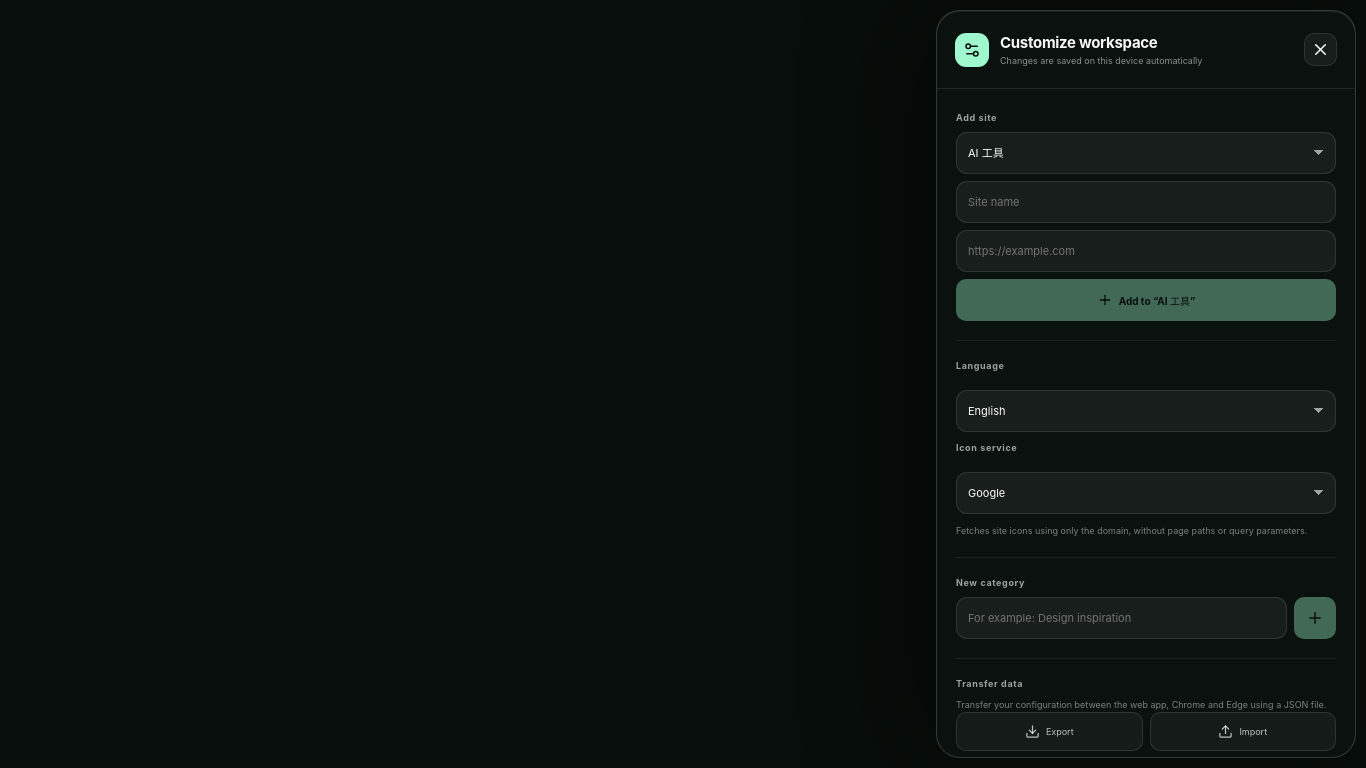
Test: preferences and icons › shows a translated export error and clears it after a successful retry
The width and height of the screenshot is (1366, 768).
What coordinates should you click on to do the following:
click the button "Export"
I would click on:
 (1049, 731)
Its box is [956,712,1142,751].
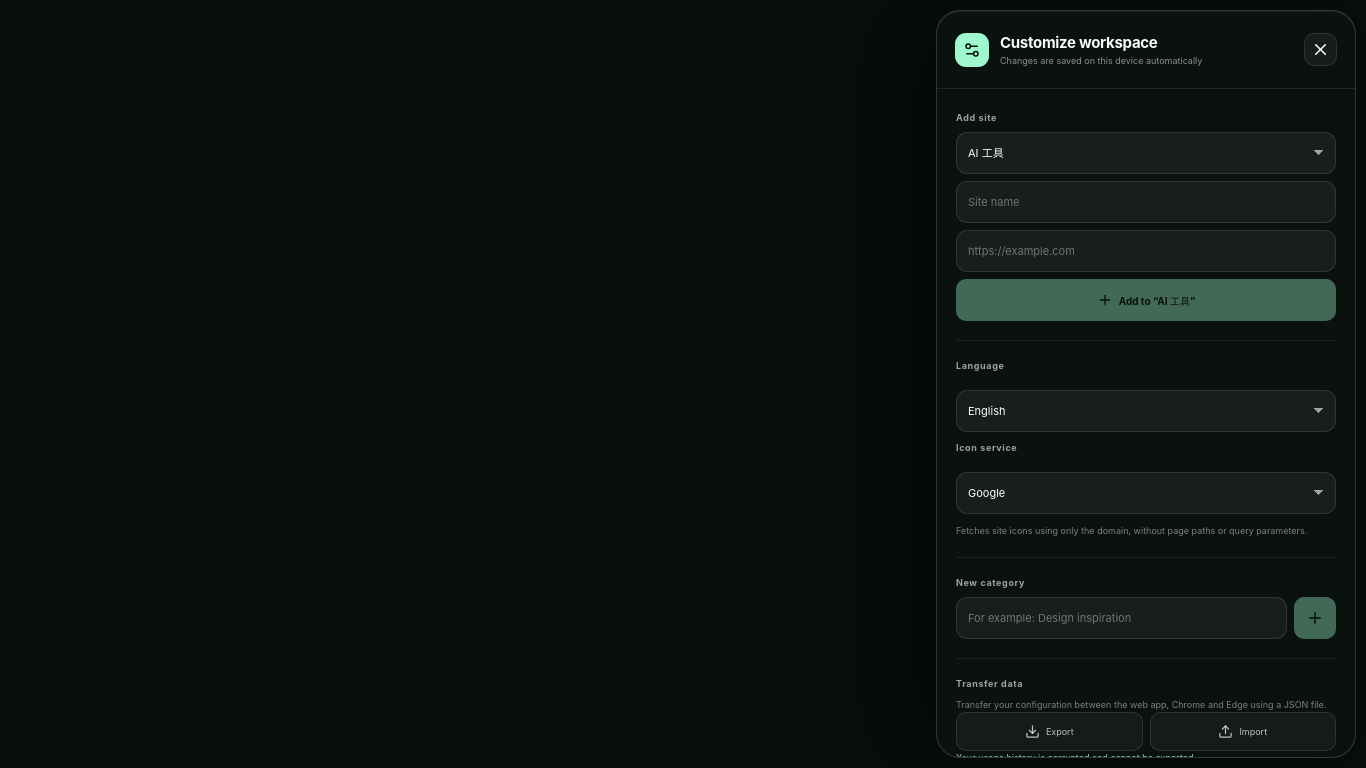
What coordinates should you click on to do the following:
click the button "Export"
I would click on:
 (1049, 731)
Its box is [956,712,1142,751].
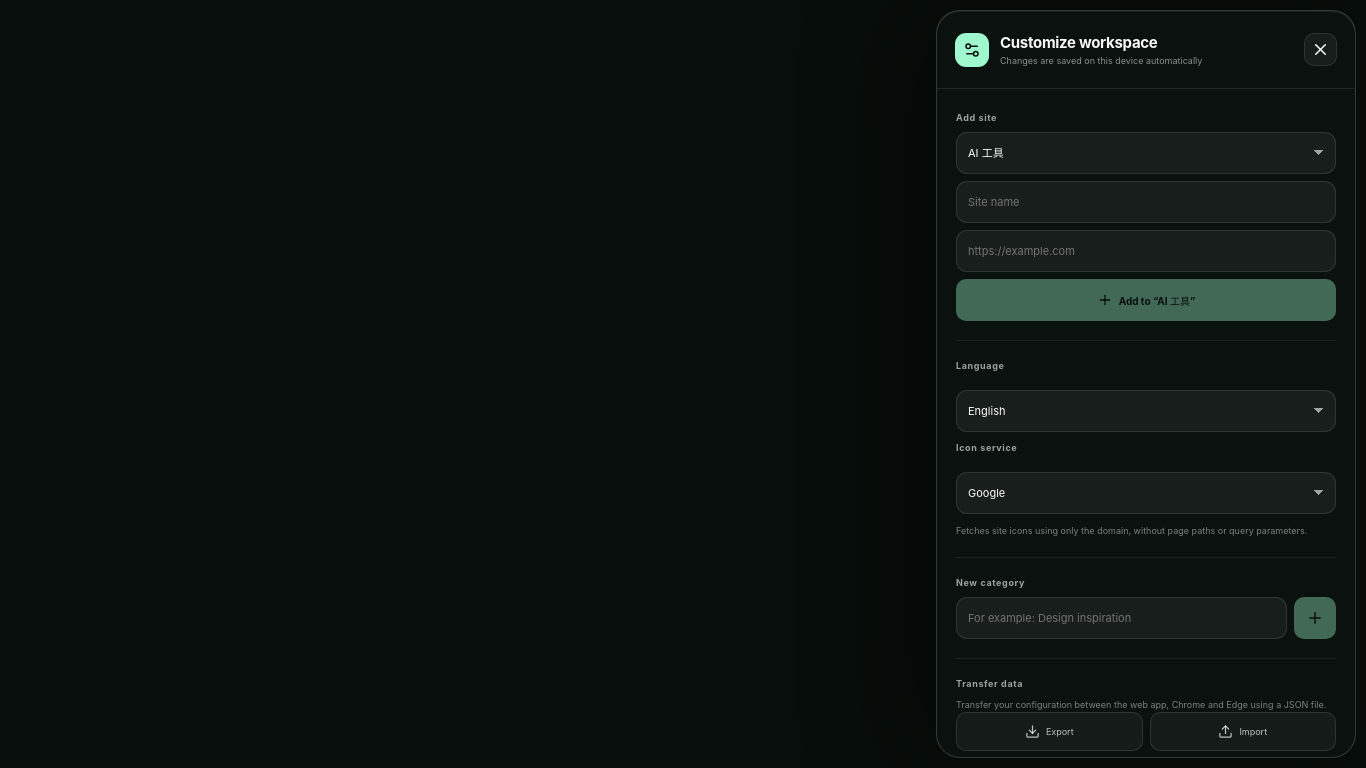
Check: the message "Your usage history is corrupted and cannot be exported." is gone
